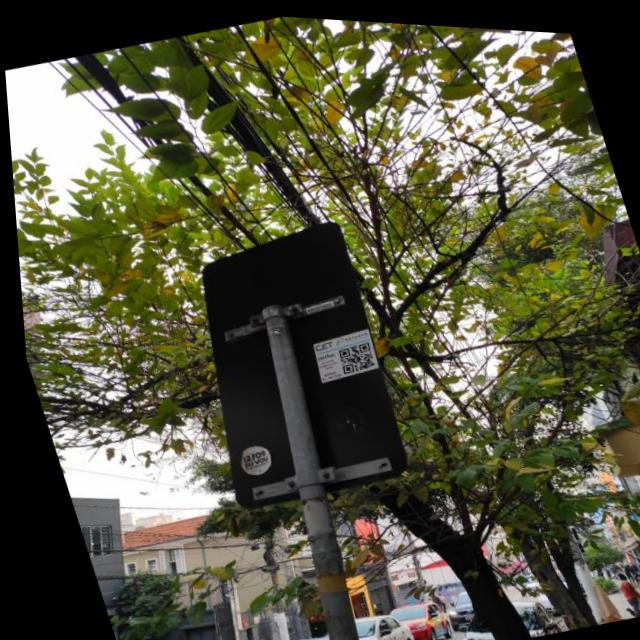qrcode: (332, 337, 373, 371)
